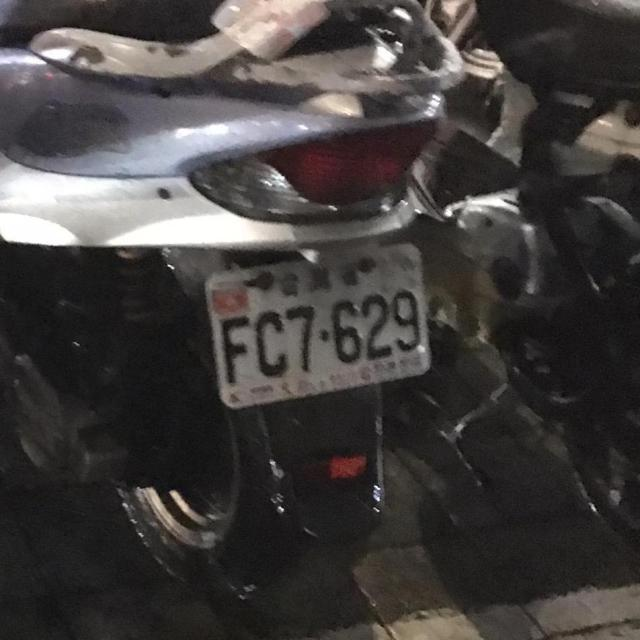W: (202, 240, 434, 418)
